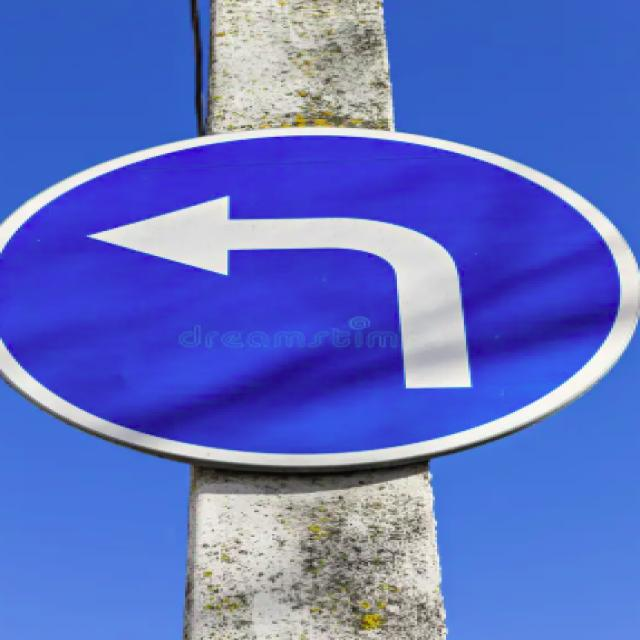LEFT: (2, 129, 636, 468)
